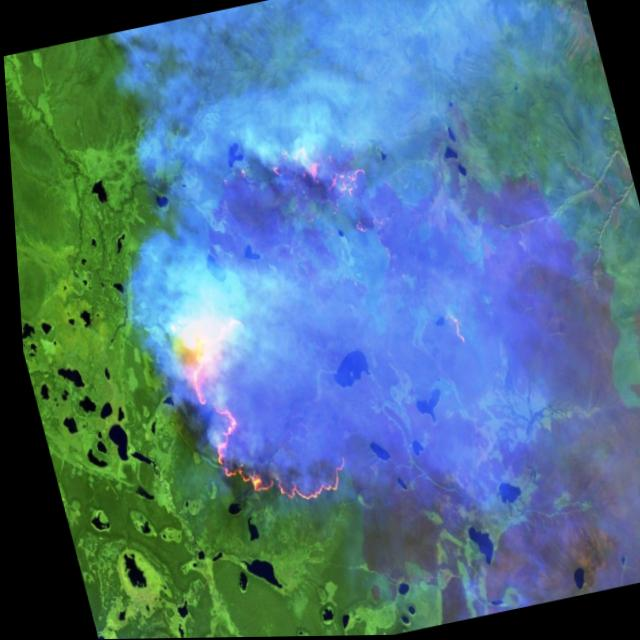fire: (111, 96, 509, 532)
